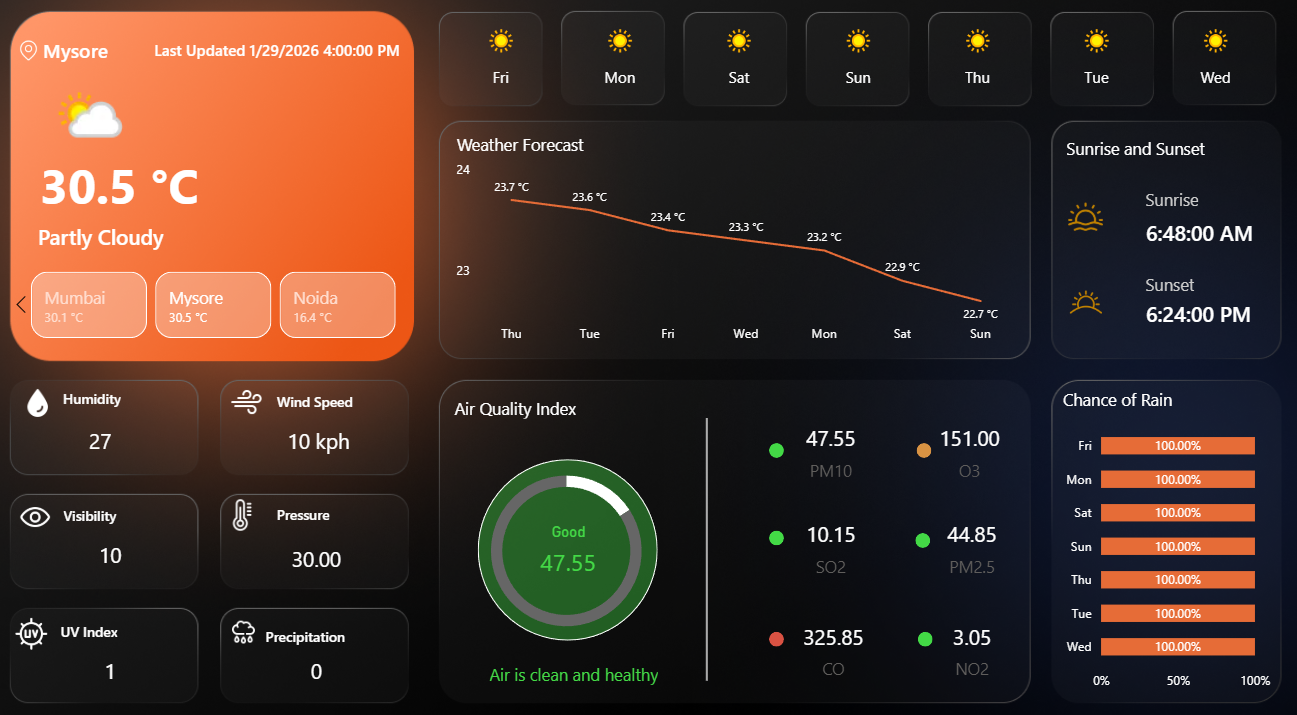

The dashboard page shown, as its layout file describes it:
{"tool":"powerbi","page":{"name":"Weather Forecast","canvas":[1280,720],"ordinal":0},"visuals":[{"type":"shape","box":[476.3,455.3,173.7,175],"z":0},{"type":"donutChart","fields":{"Y":["Min(Current.current.air_quality.pm10)","_Measures.Left_Value_PM10"]},"box":[451.2,447.6,222,191.8],"z":1000},{"type":"advancedSlicerVisual","fields":{"Values":["Location.location.name"]},"box":[20.6,269,402.1,74.1],"z":2000},{"type":"shape","box":[49.4,153.7,178.4,67.2],"z":3000},{"type":"shape","box":[49.4,220.9,178.4,37],"z":4000},{"type":"shape","box":[54.9,41.2,107,37],"z":5000},{"type":"shape","box":[161.9,41.2,251.1,37],"z":6000},{"type":"image","box":[32.9,50.8,20.6,19.2],"z":7000},{"type":"cardVisual","fields":{"Data":["Min(Current.current.condition.icon)"]},"box":[0,0,207.2,181.1],"z":8000},{"type":"image","box":[32.9,385.6,38.4,28.8],"z":9000},{"type":"shape","box":[74.1,377.4,67.2,37],"z":10000},{"type":"image","box":[30.2,494,38.4,34.3],"z":11000},{"type":"shape","box":[74.1,489.9,67.2,38.4],"z":12000},{"type":"image","box":[23.3,606.5,45.3,32.9],"z":13000},{"type":"shape","box":[71.4,602.4,70,37],"z":14000},{"type":"shape","box":[269,606.5,97.4,37],"z":15000},{"type":"shape","box":[279.9,489.9,76.8,37],"z":16000},{"type":"shape","box":[279.9,380.1,86.4,37],"z":17000},{"type":"image","box":[237.4,382.8,31.6,34.3],"z":18000},{"type":"image","box":[229.2,494,39.8,30.2],"z":19000},{"type":"image","box":[227.8,607.9,45.3,27.4],"z":20000},{"type":"card","fields":{"Values":["Min(Current.current.humidity)"]},"box":[71.4,414.4,82.3,50.8],"z":21000},{"type":"card","fields":{"Values":["Min(Current.current.precip_in)"]},"box":[279.9,635.3,82.3,50.8],"z":22000},{"type":"card","fields":{"Values":["Min(Current.current.uv)"]},"box":[81,635.3,82.3,50.8],"z":23000},{"type":"card","fields":{"Values":["Min(Current.current.pressure_in)"]},"box":[279.9,526.9,82.3,50.8],"z":24000},{"type":"card","fields":{"Values":["Min(Current.current.vis_km)"]},"box":[81,524.2,82.3,50.8],"z":25000},{"type":"card","fields":{"Values":["_Measures.Wind_Speed"]},"box":[279.9,414.4,86.4,50.8],"z":26000},{"type":"advancedSlicerVisual","fields":{"Values":["Forecast_Day.Day_Name"]},"box":[440.5,24.7,808.2,91.9],"z":27000},{"type":"lineChart","title":"Weather Forecast","fields":{"Category":["Forecast_Day.Day_Name"],"Y":["Sum(Forecast_Day.forecast.forecastday.day.avgtemp_c)"]},"box":[451.3,139.5,546.1,211.8],"z":28000},{"type":"shape","box":[1042.4,139.2,170,30.8],"z":29000},{"type":"shape","box":[1118.8,214.4,129.4,43.1],"z":30000},{"type":"shape","box":[1118.8,293.5,129.4,43.1],"z":31000},{"type":"shape","box":[1118.8,184.8,67.8,37],"z":32000},{"type":"shape","box":[1118.8,266.4,67.8,37],"z":33000},{"type":"image","box":[1042.4,203.3,41.9,33.3],"z":34000},{"type":"image","box":[1036.3,282.2,54.2,41.9],"z":35000},{"type":"hundredPercentStackedBarChart","title":"Chance of Rain","fields":{"Category":["Forecast_Day.Day_Name"],"Y":["Count(Forecast_Day.forecast.forecastday.day.daily_chance_of_rain)"]},"box":[1036.8,385.5,210.5,301.3],"z":36000},{"type":"shape","box":[451.3,385.5,143.4,38.2],"z":37000},{"type":"card","fields":{"Values":["Min(Current.current.air_quality.pm10)"]},"box":[772.4,417.1,90.8,59.2],"z":38000},{"type":"card","fields":{"Values":["Min(Current.current.air_quality.co)"]},"box":[775,609.2,90.8,59.2],"z":39000},{"type":"card","fields":{"Values":["Min(Current.current.air_quality.so2)"]},"box":[772.4,510.5,90.8,59.2],"z":40000},{"type":"card","fields":{"Values":["Min(Current.current.air_quality.no2)"]},"box":[907.9,609.2,90.8,59.2],"z":41000},{"type":"card","fields":{"Values":["Min(Current.current.air_quality.pm2_5)"]},"box":[907.9,510.5,90.8,59.2],"z":42000},{"type":"card","fields":{"Values":["Min(Current.current.air_quality.o3)"]},"box":[906.6,417.1,90.8,59.2],"z":43000},{"type":"shape","box":[757.9,439.5,14.5,14.5],"z":44000},{"type":"shape","box":[757.9,523.7,14.5,14.5],"z":45000},{"type":"shape","box":[757.9,621.1,14.5,14.5],"z":46000},{"type":"shape","box":[900,439.5,14.5,14.5],"z":47000},{"type":"shape","box":[898.7,526.3,14.5,14.5],"z":48000},{"type":"shape","box":[901.3,621.1,14.5,14.5],"z":49000},{"type":"card","fields":{"Values":["Min(Current.current.air_quality.pm10)"]},"box":[518.4,515.8,90.8,61.8],"z":50000},{"type":"shape","box":[650,414.5,94.7,253.9],"z":51000},{"type":"shape","box":[442.1,635.5,255.3,51.3],"z":52000}]}

Visuals, with their boxes in screenshot pixels (x1, y1, x2, y2), scaled from the page's 1280x720 canvas onto the 1297x715 screenshot:
shape: {"left": 483, "top": 452, "right": 659, "bottom": 626}
donutChart - Min(Current.current.air_quality.pm10) x _Measures.Left_Value_PM10: {"left": 457, "top": 444, "right": 682, "bottom": 635}
advancedSlicerVisual - Location.location.name: {"left": 21, "top": 267, "right": 428, "bottom": 341}
shape: {"left": 50, "top": 153, "right": 231, "bottom": 219}
shape: {"left": 50, "top": 219, "right": 231, "bottom": 256}
shape: {"left": 56, "top": 41, "right": 164, "bottom": 78}
shape: {"left": 164, "top": 41, "right": 418, "bottom": 78}
image: {"left": 33, "top": 50, "right": 54, "bottom": 70}
cardVisual - Min(Current.current.condition.icon): {"left": 0, "top": 0, "right": 210, "bottom": 180}
image: {"left": 33, "top": 383, "right": 72, "bottom": 412}
shape: {"left": 75, "top": 375, "right": 143, "bottom": 412}
image: {"left": 31, "top": 491, "right": 70, "bottom": 525}
shape: {"left": 75, "top": 486, "right": 143, "bottom": 525}
image: {"left": 24, "top": 602, "right": 70, "bottom": 635}
shape: {"left": 72, "top": 598, "right": 143, "bottom": 635}
shape: {"left": 273, "top": 602, "right": 371, "bottom": 639}
shape: {"left": 284, "top": 486, "right": 361, "bottom": 523}
shape: {"left": 284, "top": 377, "right": 371, "bottom": 414}
image: {"left": 241, "top": 380, "right": 273, "bottom": 414}
image: {"left": 232, "top": 491, "right": 273, "bottom": 521}
image: {"left": 231, "top": 604, "right": 277, "bottom": 631}
card - Min(Current.current.humidity): {"left": 72, "top": 412, "right": 156, "bottom": 462}
card - Min(Current.current.precip_in): {"left": 284, "top": 631, "right": 367, "bottom": 681}
card - Min(Current.current.uv): {"left": 82, "top": 631, "right": 165, "bottom": 681}
card - Min(Current.current.pressure_in): {"left": 284, "top": 523, "right": 367, "bottom": 574}
card - Min(Current.current.vis_km): {"left": 82, "top": 521, "right": 165, "bottom": 571}
card - _Measures.Wind_Speed: {"left": 284, "top": 412, "right": 371, "bottom": 462}
advancedSlicerVisual - Forecast_Day.Day_Name: {"left": 446, "top": 25, "right": 1265, "bottom": 116}
"Weather Forecast" lineChart: {"left": 457, "top": 139, "right": 1011, "bottom": 349}
shape: {"left": 1056, "top": 138, "right": 1229, "bottom": 169}
shape: {"left": 1134, "top": 213, "right": 1265, "bottom": 256}
shape: {"left": 1134, "top": 291, "right": 1265, "bottom": 334}
shape: {"left": 1134, "top": 184, "right": 1202, "bottom": 220}
shape: {"left": 1134, "top": 265, "right": 1202, "bottom": 301}
image: {"left": 1056, "top": 202, "right": 1099, "bottom": 235}
image: {"left": 1050, "top": 280, "right": 1105, "bottom": 322}
"Chance of Rain" hundredPercentStackedBarChart: {"left": 1051, "top": 383, "right": 1264, "bottom": 682}
shape: {"left": 457, "top": 383, "right": 603, "bottom": 421}
card - Min(Current.current.air_quality.pm10): {"left": 783, "top": 414, "right": 875, "bottom": 473}
card - Min(Current.current.air_quality.co): {"left": 785, "top": 605, "right": 877, "bottom": 664}
card - Min(Current.current.air_quality.so2): {"left": 783, "top": 507, "right": 875, "bottom": 566}
card - Min(Current.current.air_quality.no2): {"left": 920, "top": 605, "right": 1012, "bottom": 664}
card - Min(Current.current.air_quality.pm2_5): {"left": 920, "top": 507, "right": 1012, "bottom": 566}
card - Min(Current.current.air_quality.o3): {"left": 919, "top": 414, "right": 1011, "bottom": 473}
shape: {"left": 768, "top": 436, "right": 783, "bottom": 451}
shape: {"left": 768, "top": 520, "right": 783, "bottom": 534}
shape: {"left": 768, "top": 617, "right": 783, "bottom": 631}
shape: {"left": 912, "top": 436, "right": 927, "bottom": 451}
shape: {"left": 911, "top": 523, "right": 925, "bottom": 537}
shape: {"left": 913, "top": 617, "right": 928, "bottom": 631}
card - Min(Current.current.air_quality.pm10): {"left": 525, "top": 512, "right": 617, "bottom": 574}
shape: {"left": 659, "top": 412, "right": 755, "bottom": 664}
shape: {"left": 448, "top": 631, "right": 707, "bottom": 682}
